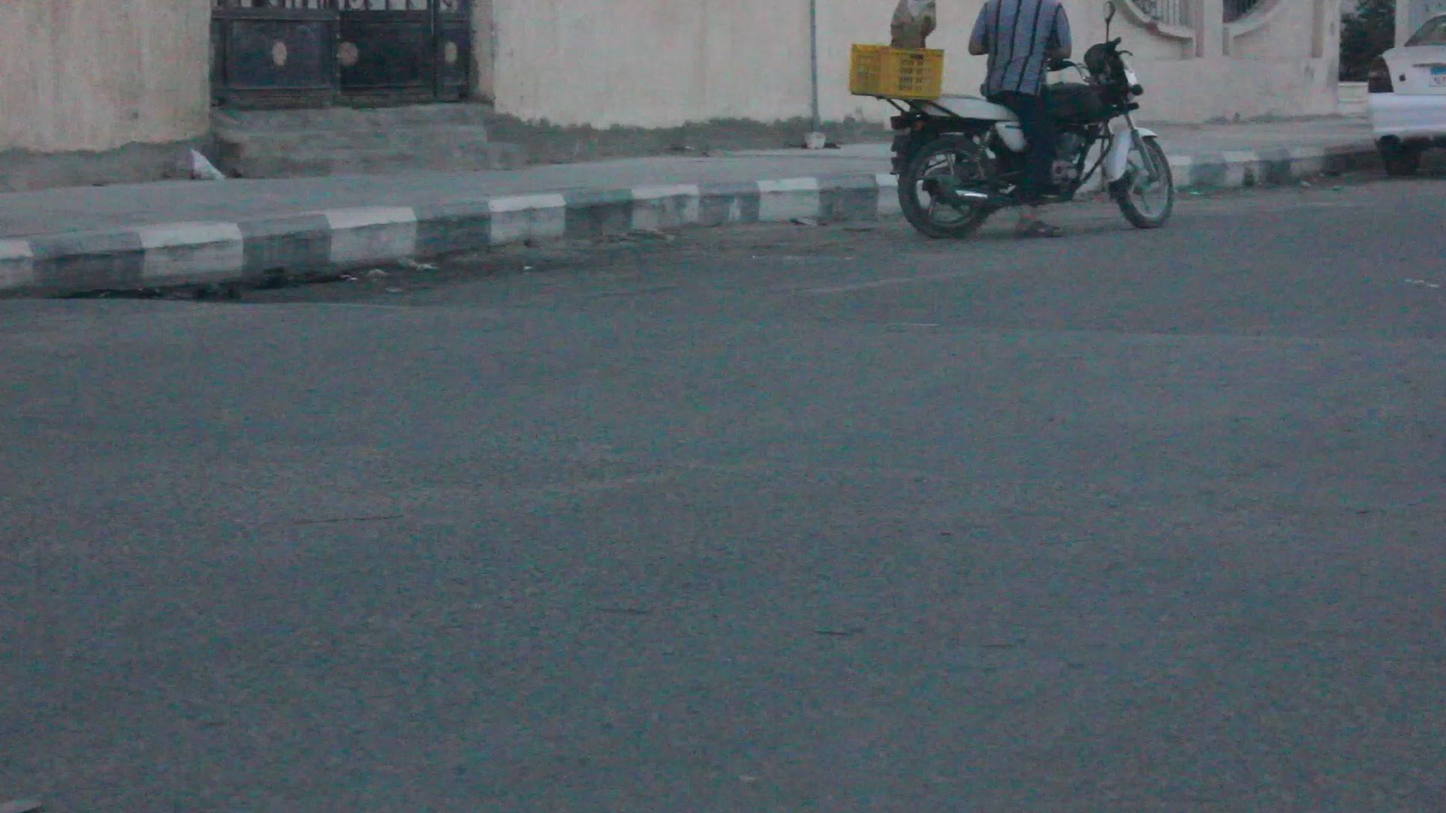Bump: (0, 286, 1446, 487)
